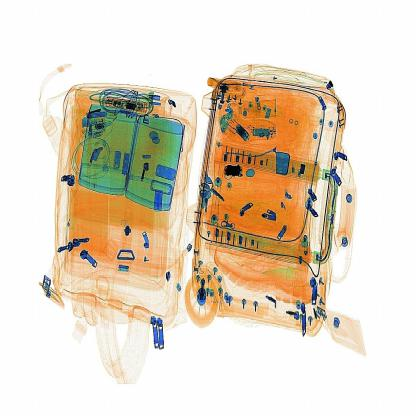scissors: (220, 158, 256, 188)
